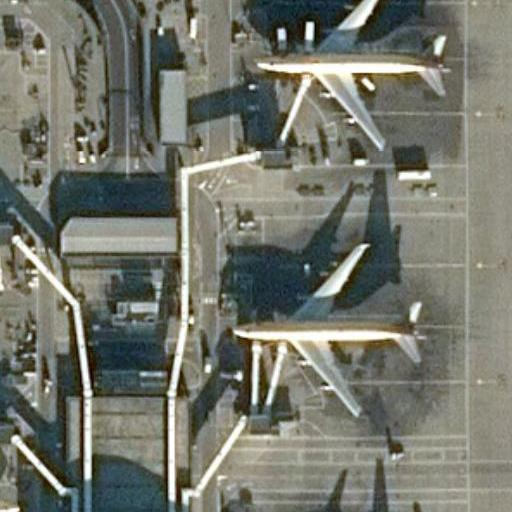Aircraft: (233, 240, 422, 417), (257, 0, 449, 152), (0, 417, 21, 512)
